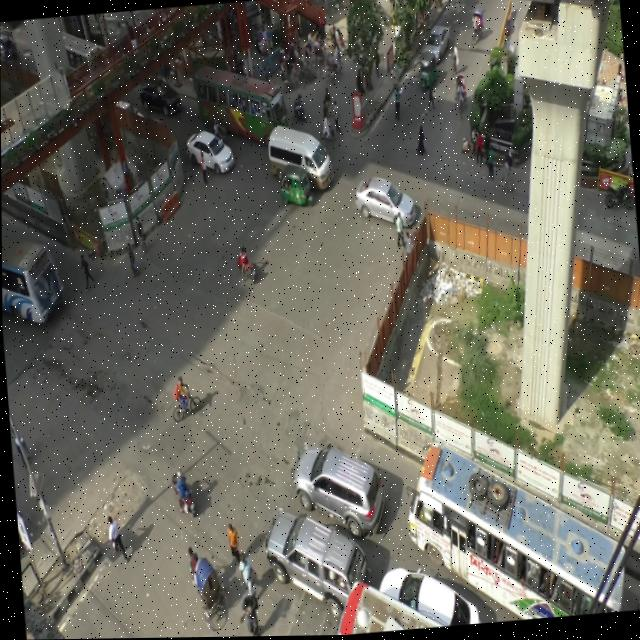cng: (275, 163, 314, 212), (415, 51, 441, 97)
rikshaw: (450, 71, 470, 119), (469, 5, 488, 53), (321, 50, 347, 84), (276, 58, 302, 91), (334, 24, 353, 57)
